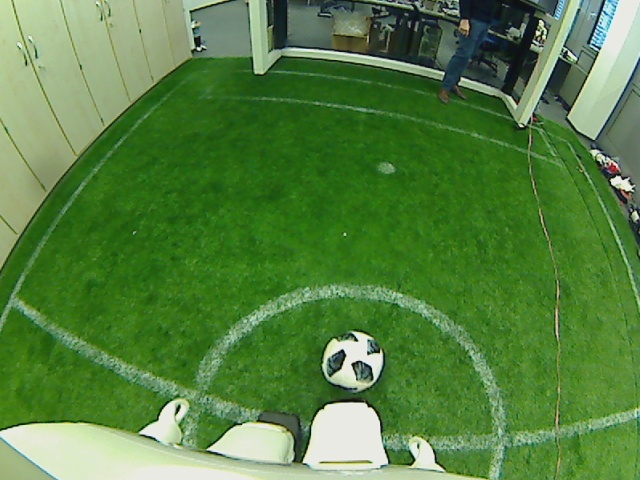ball: (320, 326, 383, 392)
